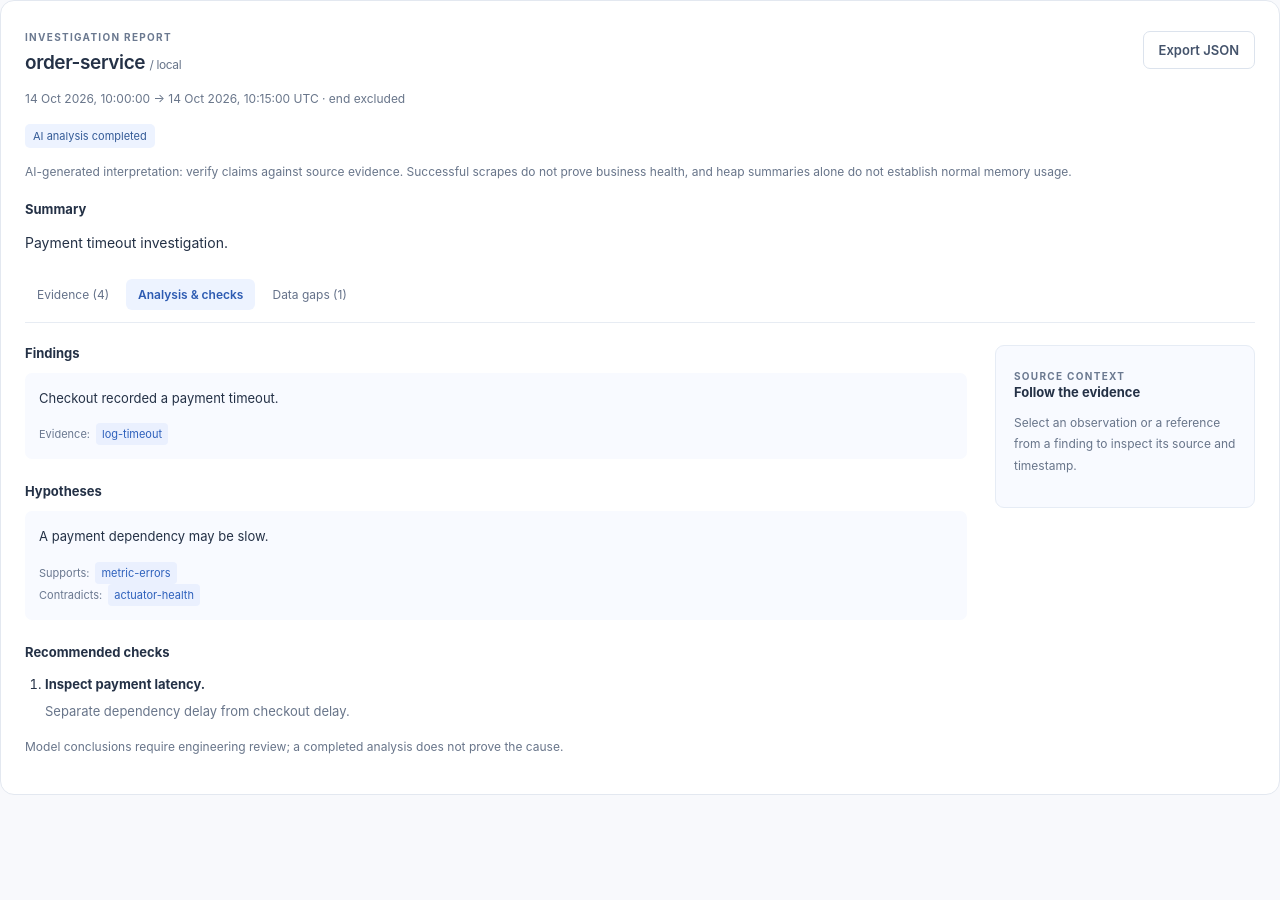
investigation report › displays UTC and separates sorted historical evidence from current Actuator snapshots
Click the button "Evidence (4)".
click(73, 294)  # box [25,279,121,310]
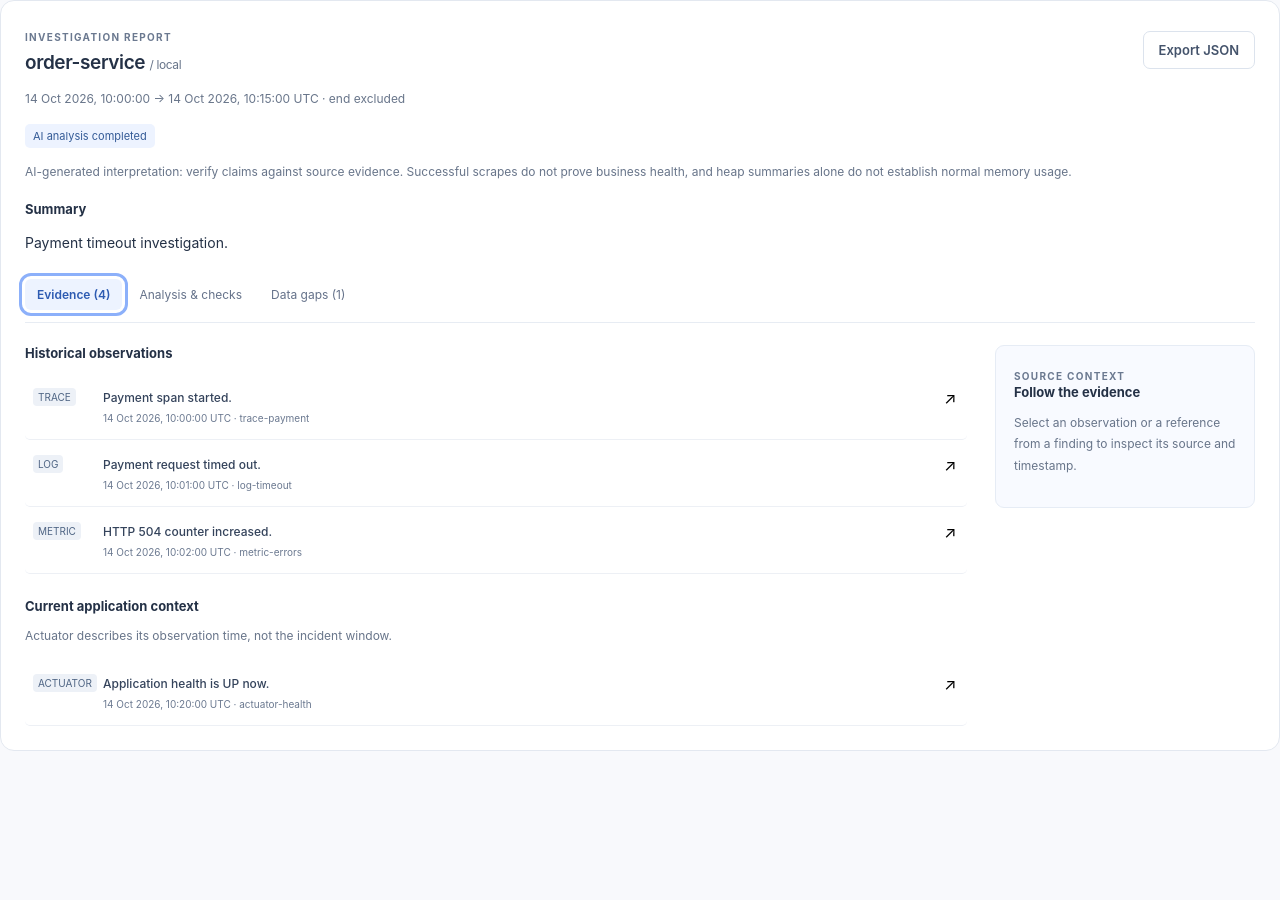
Expected: the text "14 Oct 2026, 10:00:00 → 14 Oct 2026, 10:15:00 UTC" is shown, [25,91,405,106]
Expected: the text "Actuator describes its observation time, not the incident window." is shown, [25,628,392,643]
Expected: the button "Application health is UP now" shows "10:20:00 UTC", [25,659,967,726]
